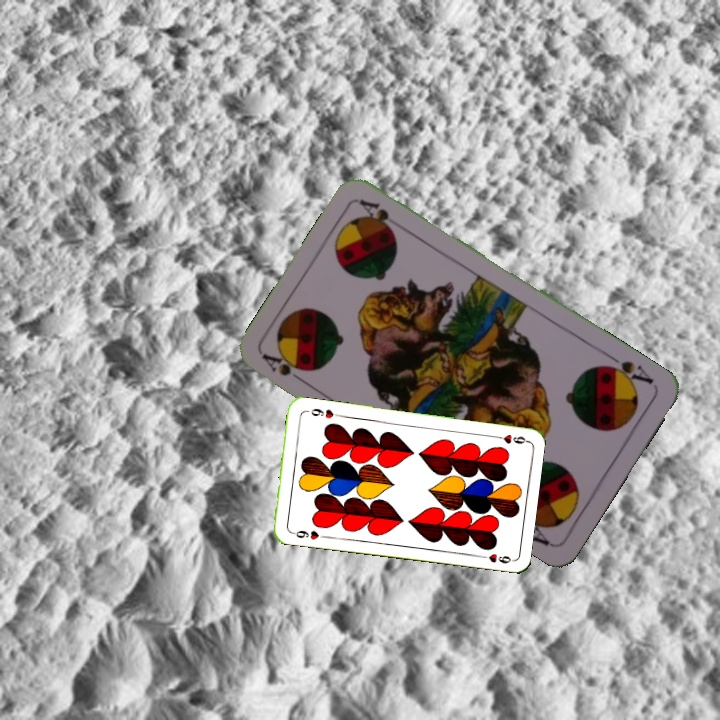H9: (488, 430, 529, 446), (287, 526, 327, 542)
SA: (598, 350, 657, 391), (258, 349, 311, 388)
